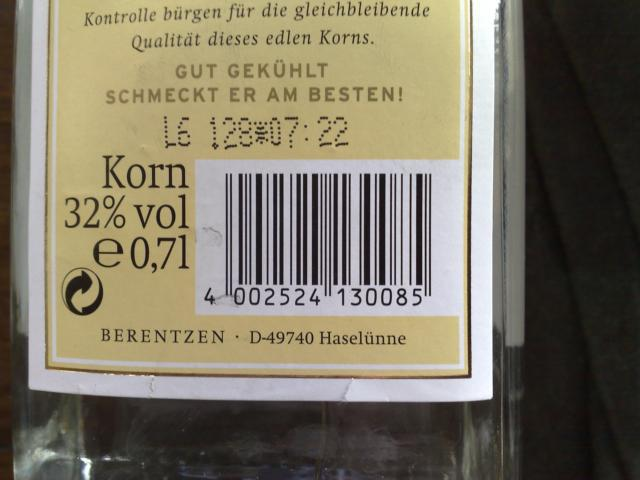Barkod: (222, 172, 432, 286)
